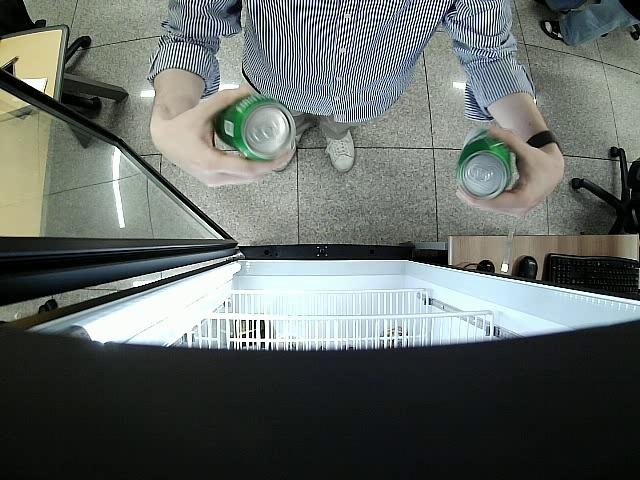00_hand: (153, 88, 295, 187), (455, 123, 564, 214)
12_chilsungCider: (216, 96, 290, 160), (457, 128, 515, 201)
